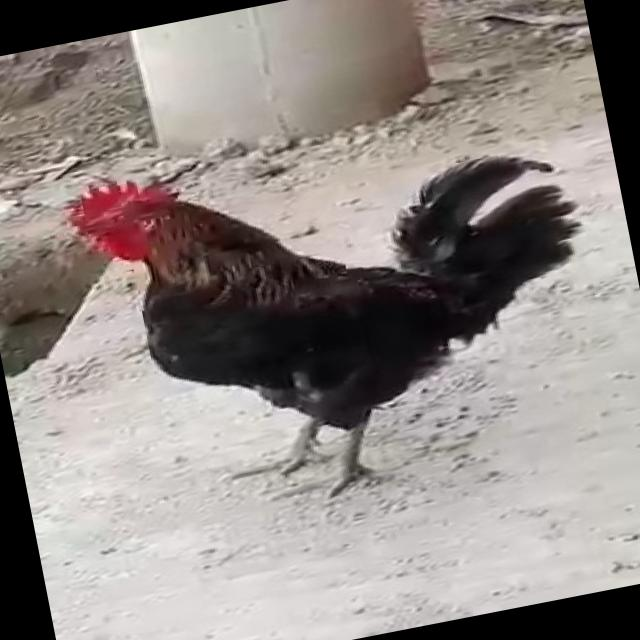walking: (31, 89, 631, 542)
